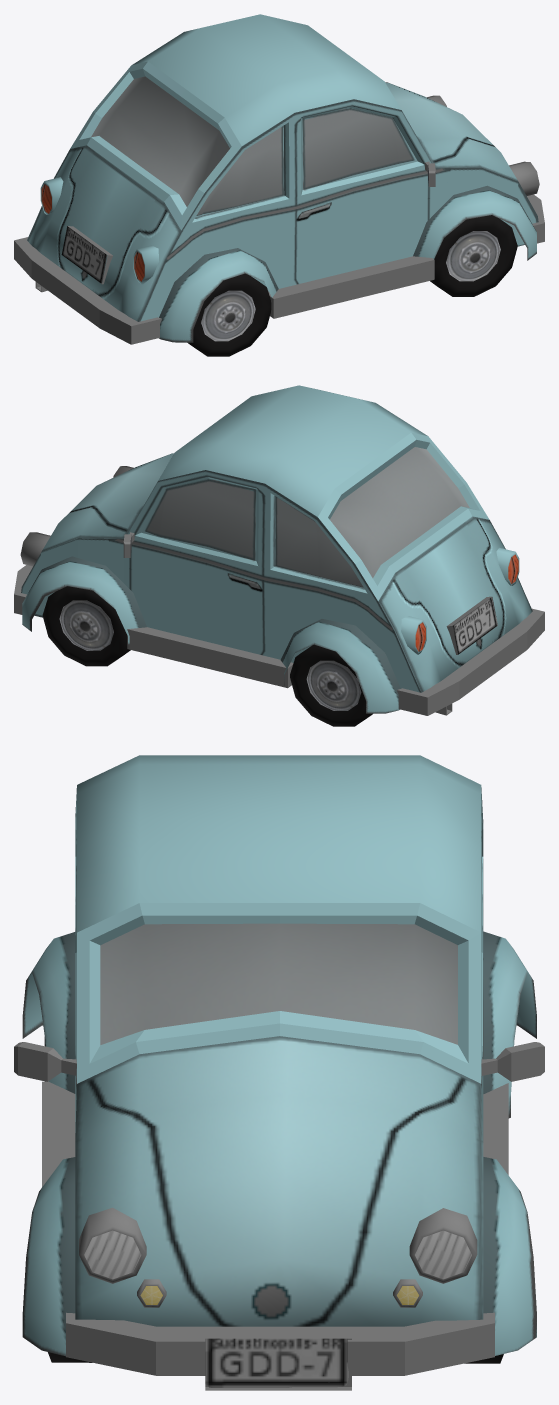
The model's file is carro3.fbx.
3 renders of one model, top to bottom at view 1: azimuth 30°, elevation 25°; view 2: azimuth 150°, elevation 25°; view 3: azimuth 270°, elevation 25°, orthographic. The views are drawn at different scales.
Parts seen in each view (by area): view 1: carro3; view 2: carro3; view 3: carro3.
Boxes of the visible parts, x1=… form: carro3: x1=14, y1=14, x2=544, y2=356; carro3: x1=14, y1=385, x2=544, y2=726; carro3: x1=14, y1=755, x2=544, y2=1390.
Size of the model in its own units: 274 by 140 by 155.
